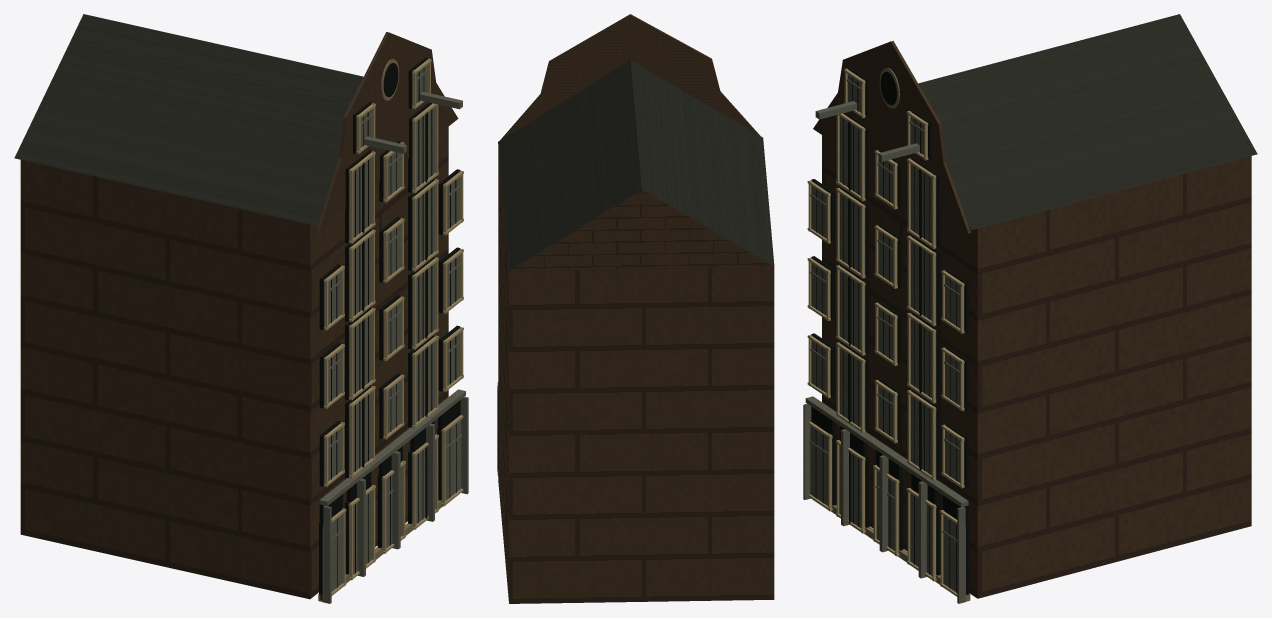
The picture shows the model from 3 angles, left to right: view 1: azimuth 30°, elevation 25°; view 2: azimuth 150°, elevation 25°; view 3: azimuth 270°, elevation 25°; orthographic projection. The views are drawn at different scales.
Visible parts, largest first — view 1: nieuwehaven25-0, nieuwehaven25-1, nieuwehaven25-4, nieuwehaven25-3, nieuwehaven25-5; view 2: nieuwehaven25-0, nieuwehaven25-1; view 3: nieuwehaven25-0, nieuwehaven25-1, nieuwehaven25-4, nieuwehaven25-3, nieuwehaven25-5.
Part boxes in pixels (<box>): nieuwehaven25-0: <box>20,32,458,599</box>; nieuwehaven25-1: <box>14,14,363,225</box>; nieuwehaven25-4: <box>319,64,468,603</box>; nieuwehaven25-3: <box>319,57,460,600</box>; nieuwehaven25-5: <box>323,58,463,600</box>; nieuwehaven25-0: <box>498,14,774,603</box>; nieuwehaven25-1: <box>498,60,774,270</box>; nieuwehaven25-0: <box>813,40,1251,598</box>; nieuwehaven25-1: <box>918,14,1257,229</box>; nieuwehaven25-4: <box>803,74,968,603</box>; nieuwehaven25-3: <box>811,67,969,594</box>; nieuwehaven25-5: <box>807,68,964,600</box>.
Size of the model in its own units: 14.82 by 19.05 by 15.47.
6 materials, 6 textured.
